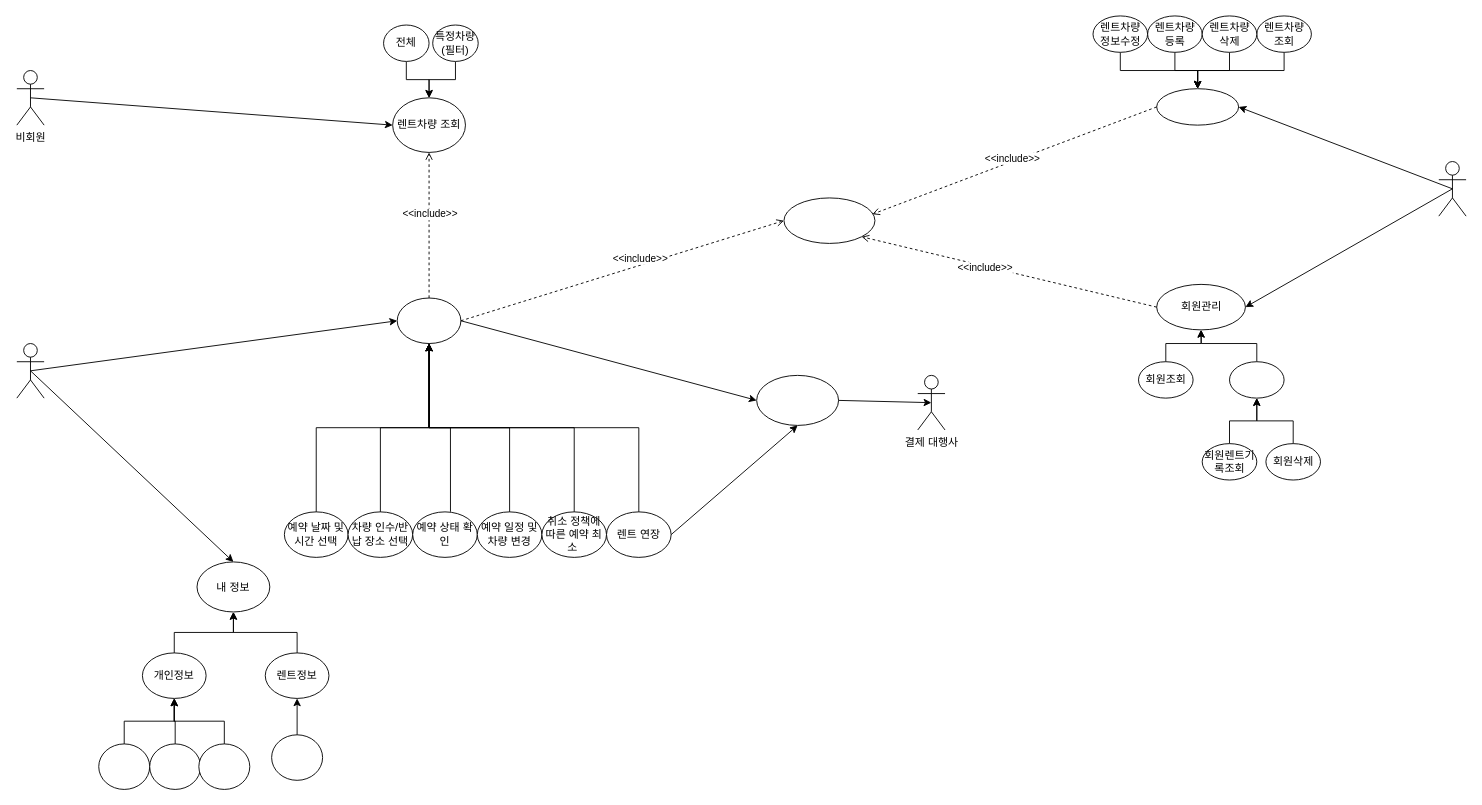
The diagram is 1482 pixels wide and 805 high, and some of its shapes have lost their labels. The centre of each missing label's shape, as x and y in pixels:
"개인정보 업데이트" belongs at point 124,766.
"결제" belongs at point 797,399.
"기본 정보" belongs at point 224,766.
"렌트 기록" belongs at point 297,757.
"렌트차량 관리" belongs at point 1197,106.
"인증" belongs at point 829,220.
"직원" belongs at point 1452,188.
"차량 렌트" belongs at point 428,320.
"특정회원조회" belongs at point 1256,379.
"회원" belongs at point 30,370.
"회원 탈퇴" belongs at point 175,766.
